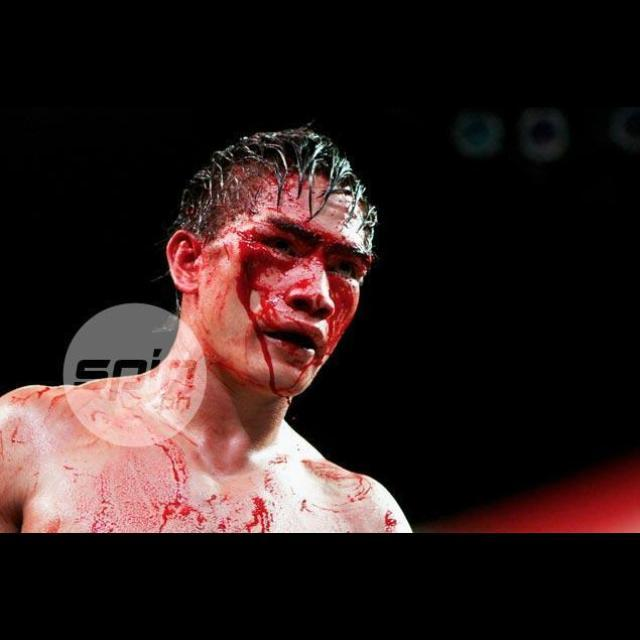blood: (0, 178, 411, 533)
